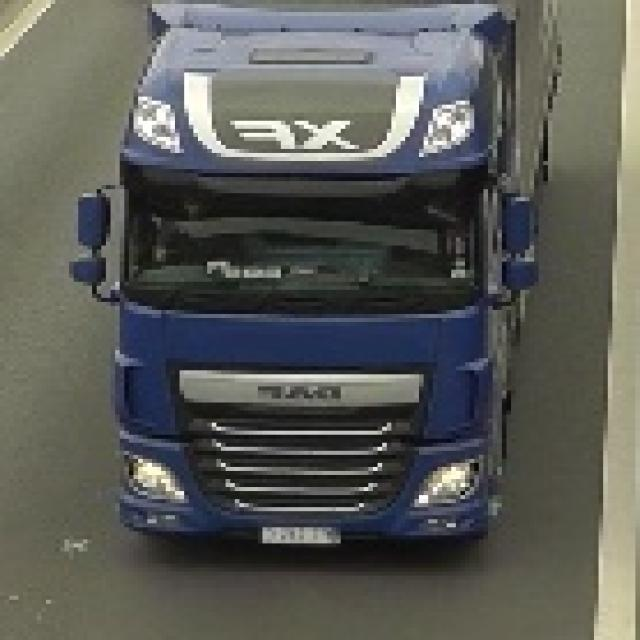TRUCK: (118, 2, 488, 577)
